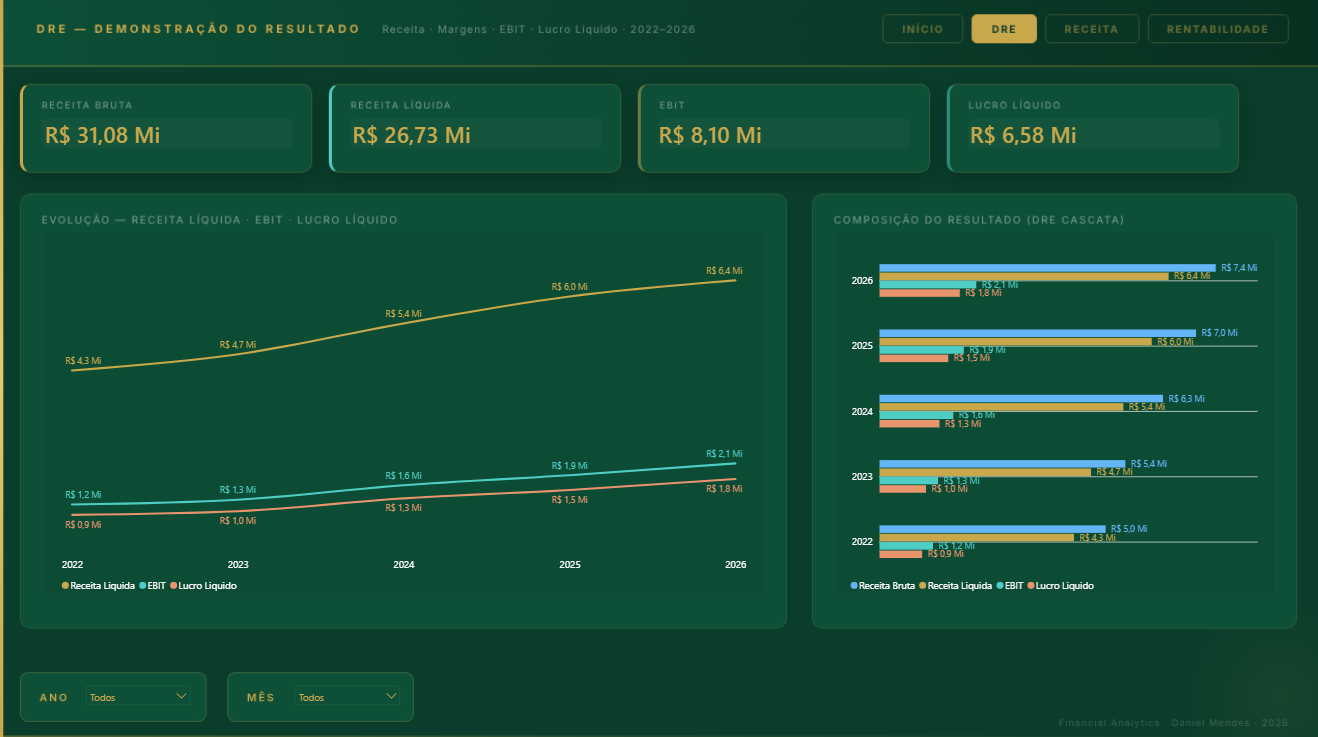

Layout of this report page (visuals, bound fields, positions):
{"tool":"powerbi","page":{"name":"DRE","canvas":[1920,1080],"ordinal":1},"visuals":[{"type":"cardVisual","fields":{"Data":["_Medidas.Receita Bruta"]},"box":[56.1,146.6,354.7,86.9],"z":0},{"type":"cardVisual","fields":{"Data":["_Medidas.Receita Liquida"]},"box":[501.3,146.6,354.7,86.9],"z":1000},{"type":"cardVisual","fields":{"Data":["_Medidas.EBIT"]},"box":[944.6,146.6,354.7,86.9],"z":2000},{"type":"cardVisual","fields":{"Data":["_Medidas.Lucro Liquido"]},"box":[1395.2,146.6,354.7,86.9],"z":3000},{"type":"lineChart","fields":{"Category":["vw_DRE.data_ref.Variação.Hierarquia de datas.Ano","vw_DRE.data_ref.Variação.Hierarquia de datas.Trimestre","vw_DRE.data_ref.Variação.Hierarquia de datas.Mês","vw_DRE.data_ref.Variação.Hierarquia de datas.Dia"],"Y":["_Medidas.Receita Liquida","_Medidas.EBIT","_Medidas.Lucro Liquido"]},"box":[79.6,351.1,1024.3,533.8],"z":4000},{"type":"clusteredBarChart","fields":{"Category":["vw_DRE.ano"],"Y":["_Medidas.Receita Bruta","_Medidas.Receita Liquida","_Medidas.EBIT","_Medidas.Lucro Liquido"]},"box":[1221.5,351.1,622.5,533.8],"z":5000},{"type":"slicer","fields":{"Values":["vw_DRE.ano"]},"box":[126.7,995.3,161.1,68.8],"z":6000},{"type":"slicer","fields":{"Values":["vw_DRE.mes"]},"box":[428.9,995.3,162.9,50.7],"z":7000},{"type":"actionButton","box":[1286.7,29,108.6,39.8],"z":8000},{"type":"actionButton","box":[1532.8,29,108.6,39.8],"z":9000},{"type":"actionButton","box":[1679.4,29,181,39.8],"z":10000}]}

Visuals, with their boxes in screenshot pixels (x1, y1, x2, y2), scaled from the page's 1920x1080 canvas onto the 1318x737 screenshot:
cardVisual - _Medidas.Receita Bruta: (x1=39, y1=100, x2=282, y2=159)
cardVisual - _Medidas.Receita Liquida: (x1=344, y1=100, x2=588, y2=159)
cardVisual - _Medidas.EBIT: (x1=648, y1=100, x2=892, y2=159)
cardVisual - _Medidas.Lucro Liquido: (x1=958, y1=100, x2=1201, y2=159)
lineChart - vw_DRE.data_ref.Variação.Hierarquia de datas.Ano x vw_DRE.data_ref.Variação.Hierarquia de datas.Trimestre: (x1=55, y1=240, x2=758, y2=604)
clusteredBarChart - vw_DRE.ano x _Medidas.Receita Bruta: (x1=839, y1=240, x2=1266, y2=604)
slicer - vw_DRE.ano: (x1=87, y1=679, x2=198, y2=726)
slicer - vw_DRE.mes: (x1=294, y1=679, x2=406, y2=714)
actionButton: (x1=883, y1=20, x2=958, y2=47)
actionButton: (x1=1052, y1=20, x2=1127, y2=47)
actionButton: (x1=1153, y1=20, x2=1277, y2=47)
